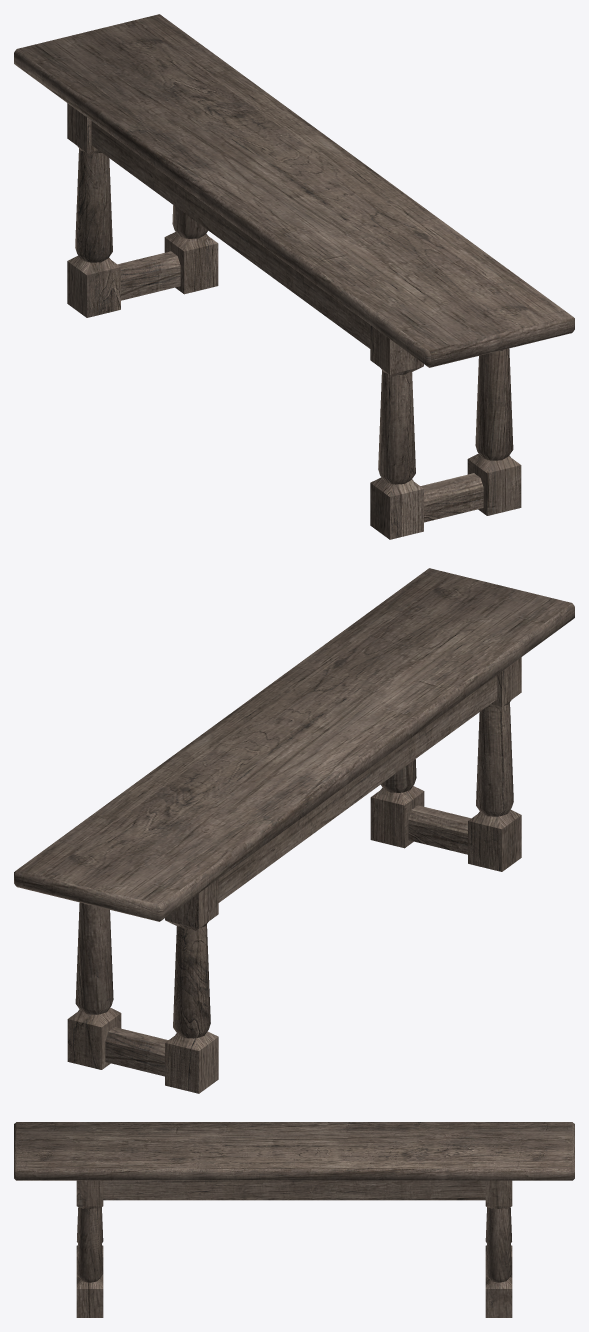
Rendered from mw_bench_02.FBX.
3 renders of one model, top to bottom at view 1: azimuth 30°, elevation 25°; view 2: azimuth 150°, elevation 25°; view 3: azimuth 270°, elevation 25°, orthographic. The views are drawn at different scales.
Visible parts, largest first — view 1: mw_bench_02; view 2: mw_bench_02; view 3: mw_bench_02.
Boxes of the visible parts, x1,y1,x2,y2 form: mw_bench_02: (14,14,574,539); mw_bench_02: (14,568,574,1093); mw_bench_02: (14,1122,574,1317).
Bounding box in the file's own units: 47.08 × 67.55 × 228.
